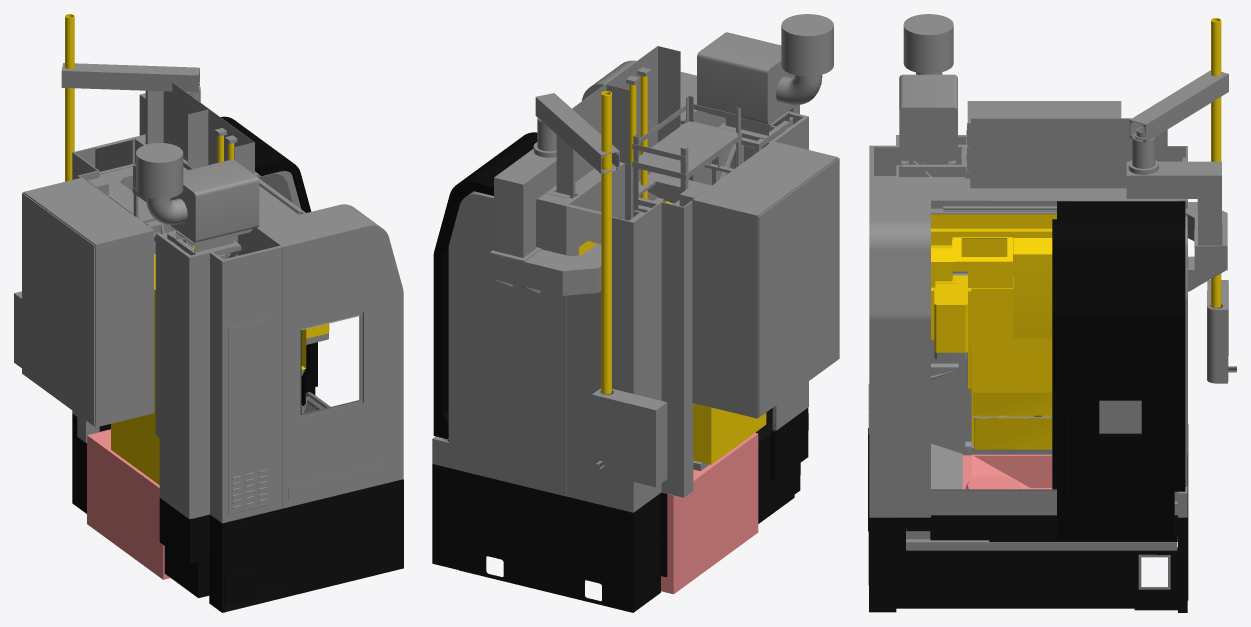
3 views of the same model, side by side, from view 1: azimuth 30°, elevation 25°; view 2: azimuth 150°, elevation 25°; view 3: azimuth 270°, elevation 25° (orthographic). The views are drawn at different scales.
Visible parts, largest first — view 1: Base, Door; view 2: Base, Door; view 3: Base, Door.
Part boxes in pixels (left/top/right/bottom): Base: left=14, top=14, right=403, bottom=612; Door: left=220, top=116, right=317, bottom=406; Base: left=432, top=14, right=839, bottom=612; Door: left=433, top=132, right=537, bottom=440; Base: left=868, top=14, right=1236, bottom=612; Door: left=1052, top=201, right=1185, bottom=540.
Size of the model in its own units: 249 by 278 by 420.
